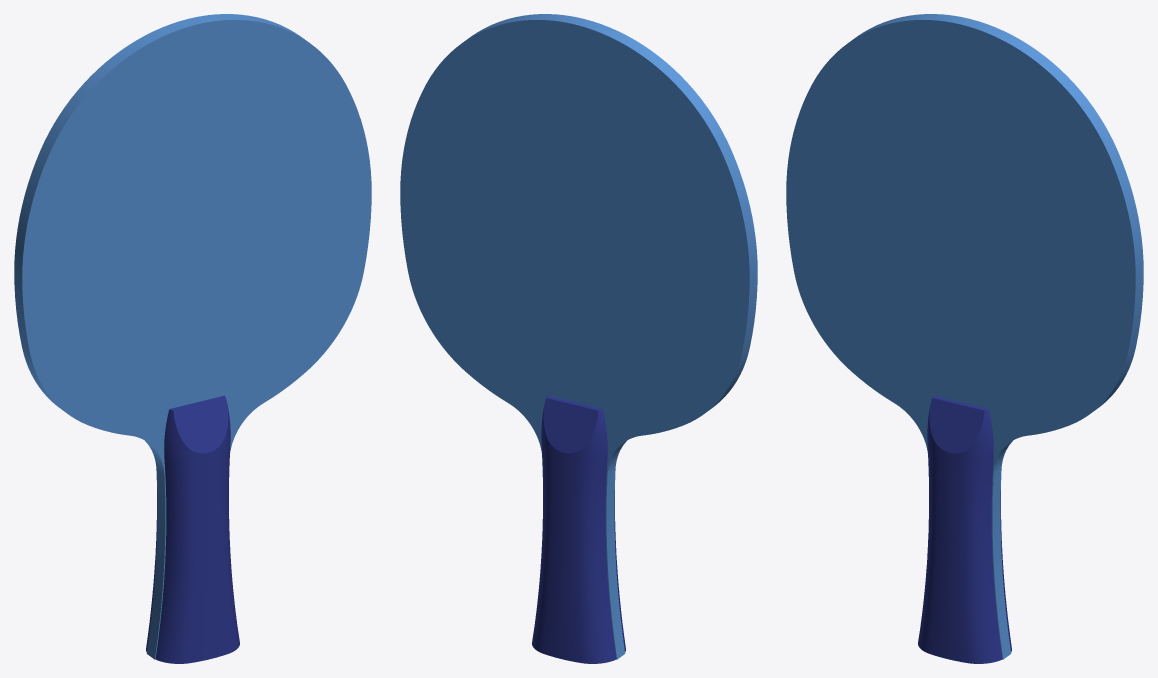
The model's file is blade_uv.glb.
3 views of the same model, side by side, from view 1: azimuth 30°, elevation 25°; view 2: azimuth 150°, elevation 25°; view 3: azimuth 330°, elevation 25° (orthographic).
Visible parts, largest first — view 1: BLADE M - Flared v16:1, Half Handle - Flared v15:1; view 2: BLADE M - Flared v16:1, Half Handle - Flared v13(Symétrie miroir):1; view 3: BLADE M - Flared v16:1, Half Handle - Flared v15:1.
Boxes of the visible parts, x1,y1,x2,y2 form: BLADE M - Flared v16:1: (14, 14, 371, 659); Half Handle - Flared v15:1: (155, 395, 239, 663); BLADE M - Flared v16:1: (400, 14, 757, 659); Half Handle - Flared v13(Symétrie miroir):1: (532, 395, 616, 663); BLADE M - Flared v16:1: (786, 14, 1143, 659); Half Handle - Flared v15:1: (918, 395, 1002, 663).
Bounding box in the file's own units: 0.151 × 0.258 × 0.026.
